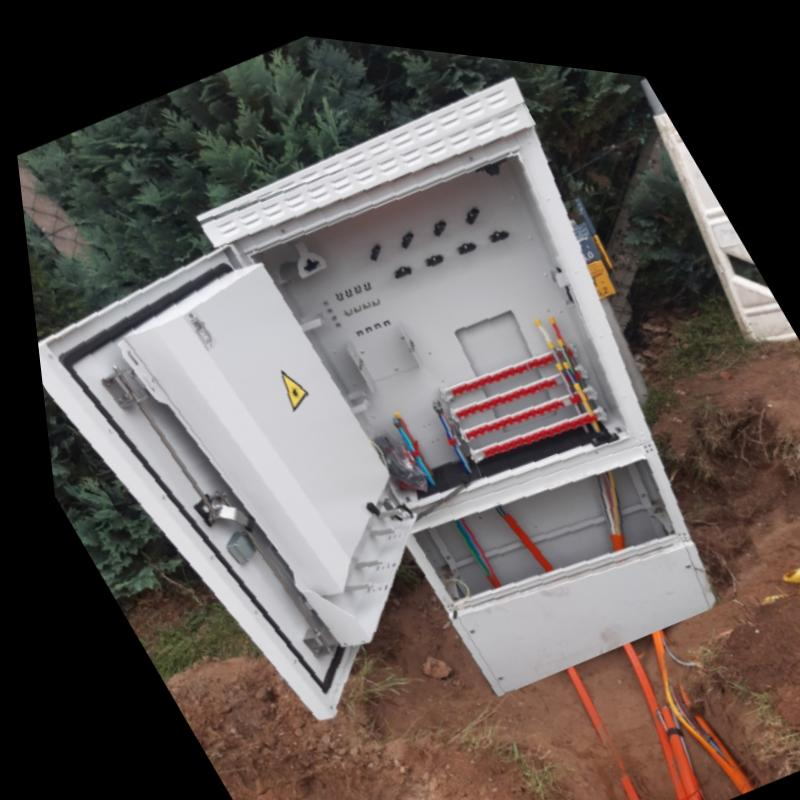NT-Gehause: (30, 85, 714, 712)
